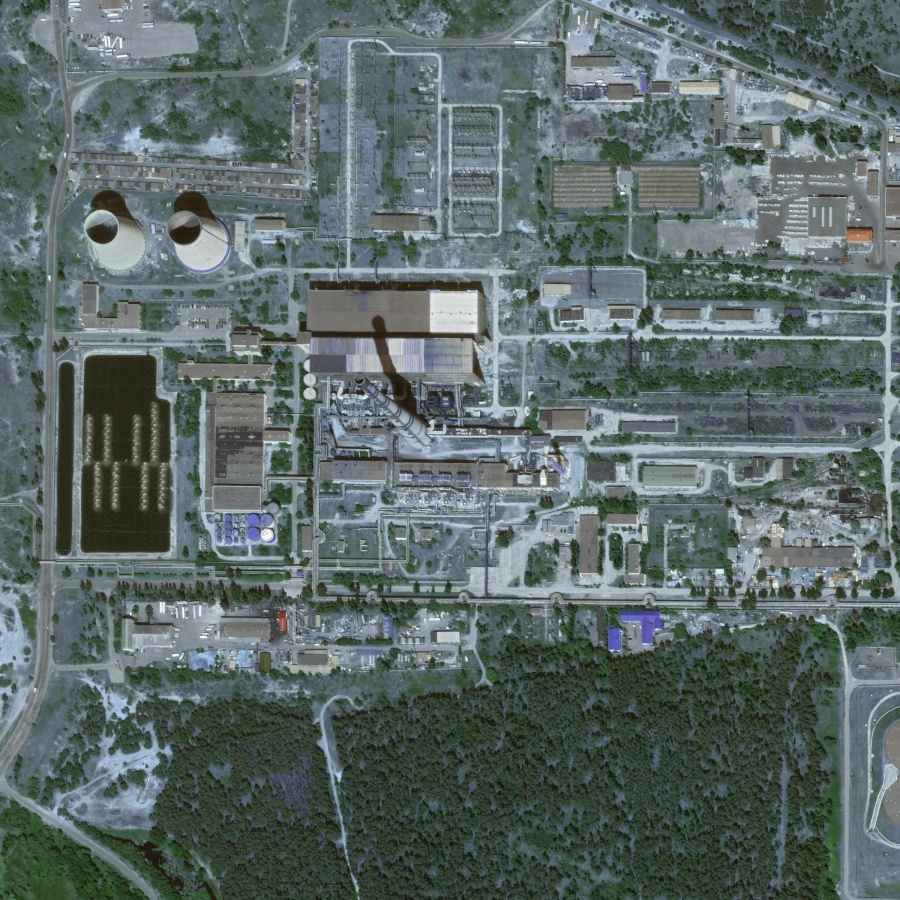PowerPlant: (45, 167, 498, 567)
